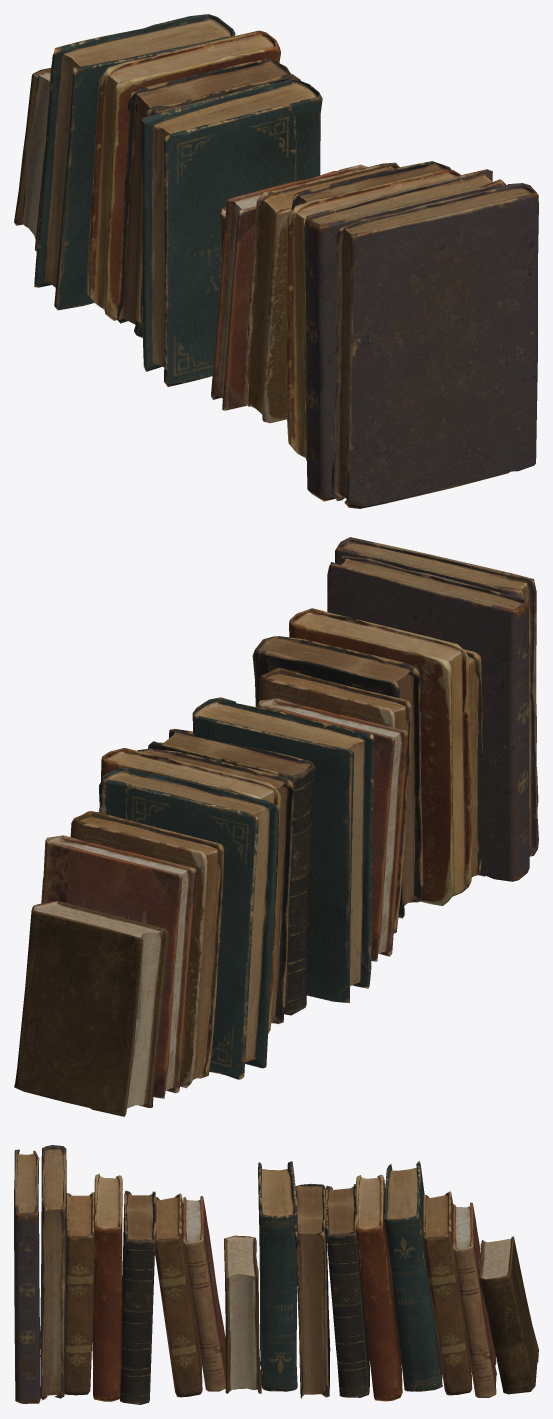
File: SM_Prop_Bookset_B.fbx
3 renders of one model, top to bottom at view 1: azimuth 30°, elevation 25°; view 2: azimuth 150°, elevation 25°; view 3: azimuth 270°, elevation 25°, orthographic. The views are drawn at different scales.
Visible parts, largest first — view 1: SM_Prop_Bookset_B_LOD0; view 2: SM_Prop_Bookset_B_LOD0; view 3: SM_Prop_Bookset_B_LOD0.
Boxes of the visible parts, x1,y1,x2,y2 form: SM_Prop_Bookset_B_LOD0: (14,14,538,508); SM_Prop_Bookset_B_LOD0: (14,537,538,1116); SM_Prop_Bookset_B_LOD0: (14,1145,538,1404).
Bounding box in the file's own units: 28.33 × 90.52 × 37.23.
1 material, 1 textured.
